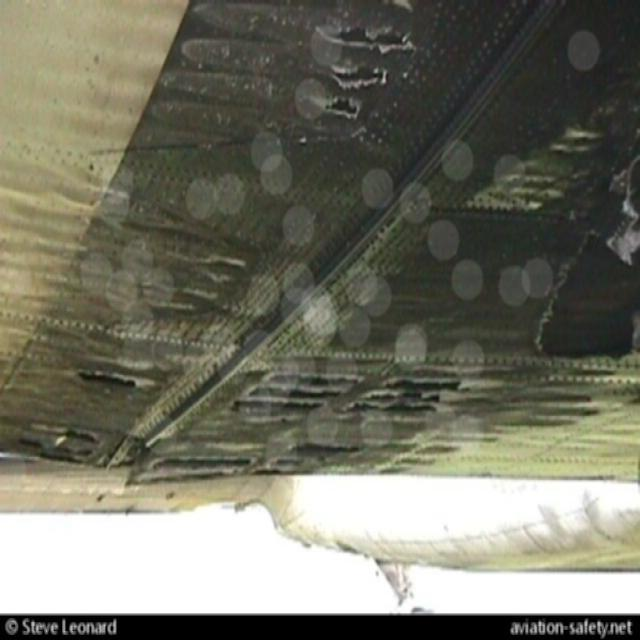crack: (306, 23, 418, 131)
